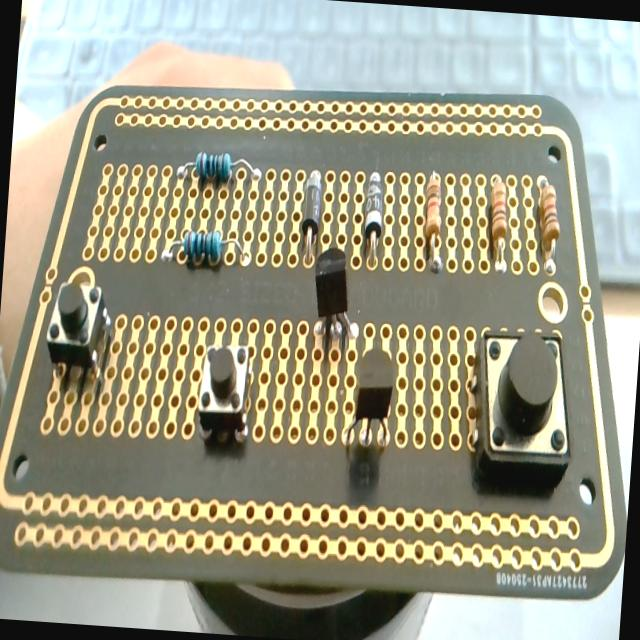diode: (359, 170, 388, 270), (297, 168, 324, 265)
resistor: (162, 226, 250, 269), (176, 148, 260, 190), (532, 178, 564, 274), (420, 171, 448, 273), (484, 176, 512, 274)
switch: (466, 323, 578, 490), (41, 276, 116, 400), (196, 338, 256, 443)
transistor: (342, 344, 398, 456), (306, 245, 362, 357)
